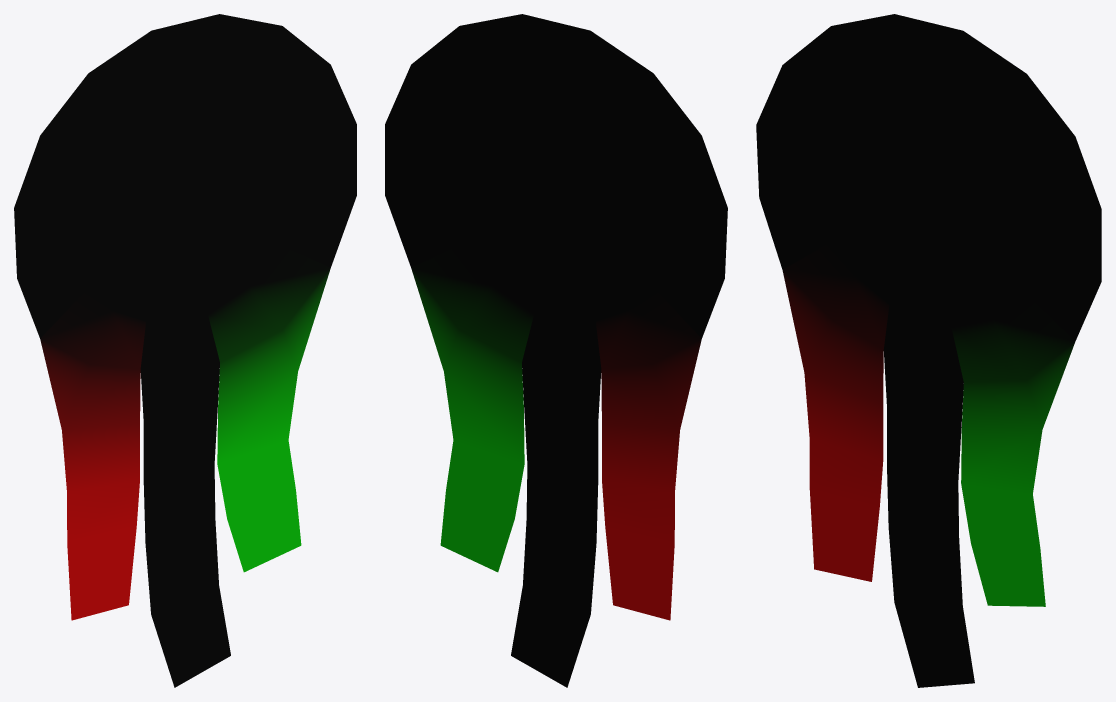
Rendered from CustomCircles.fbx.
3 views of the same model, side by side, from view 1: azimuth 30°, elevation 25°; view 2: azimuth 150°, elevation 25°; view 3: azimuth 330°, elevation 25° (orthographic).
Parts seen in each view (by area): view 1: HangingLimbs; view 2: HangingLimbs; view 3: HangingLimbs.
Boxes of the visible parts, left/top/right/bottom form: HangingLimbs: left=14, top=14, right=356, bottom=687; HangingLimbs: left=385, top=14, right=727, bottom=687; HangingLimbs: left=756, top=14, right=1101, bottom=687.
Bounding box in the file's own units: 209 × 386 × 0.
